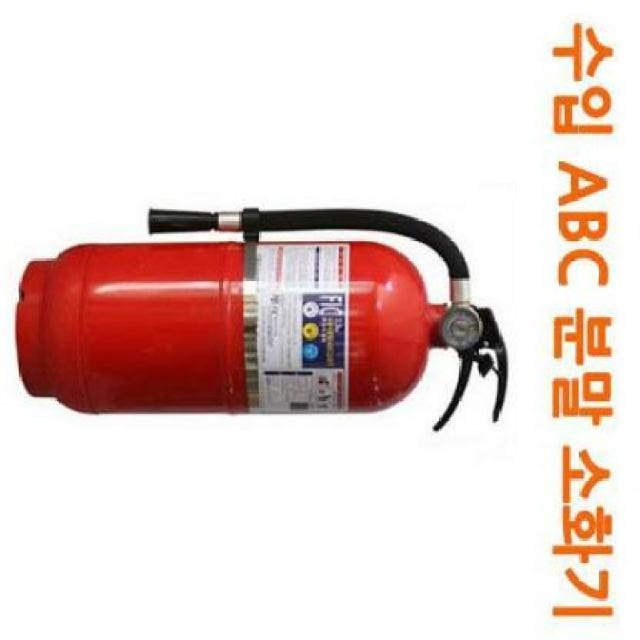fire extinguisher: (14, 208, 508, 432)
